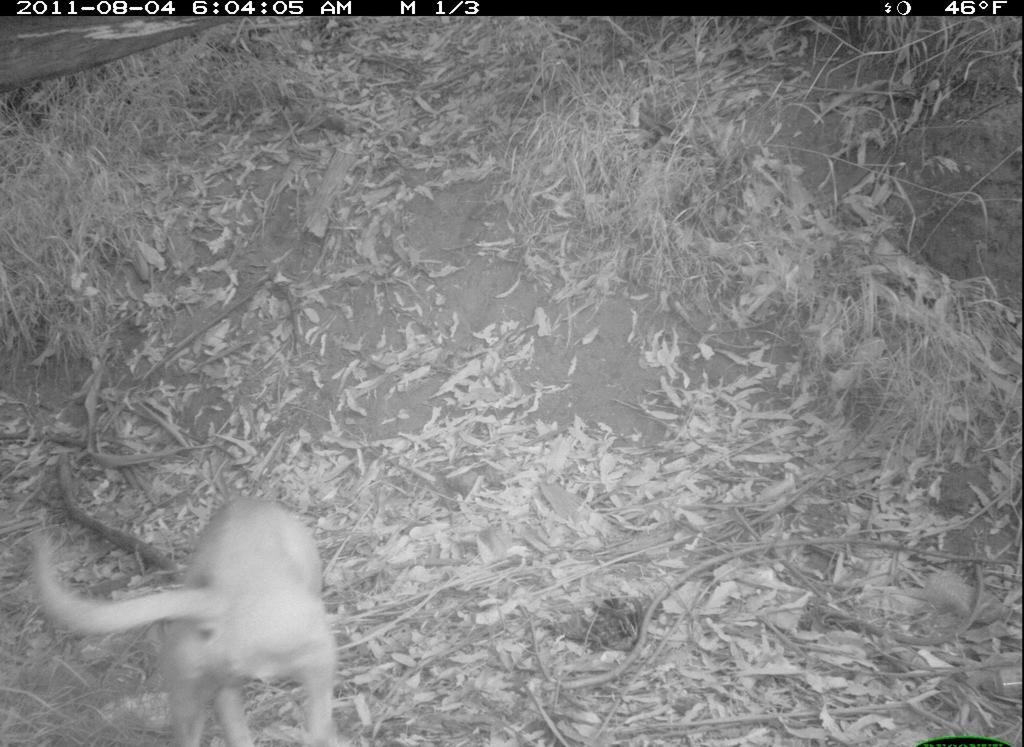dog: (26, 487, 361, 744)
